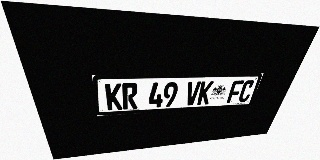4: (149, 82, 164, 108)
9: (162, 82, 179, 107)
C: (237, 80, 255, 102)
F: (226, 80, 244, 103)
K: (105, 83, 122, 110), (197, 81, 214, 105)
R: (122, 83, 138, 109)
V: (184, 81, 201, 106)
